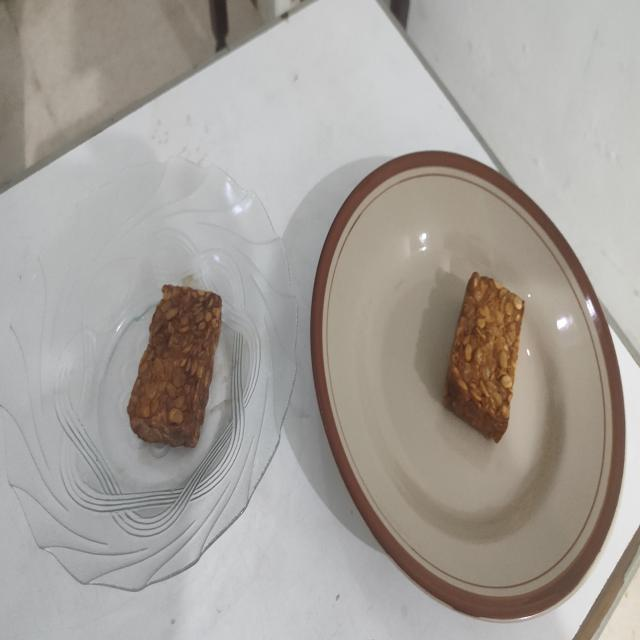tempe_goreng: (128, 285, 222, 447), (444, 272, 524, 442)
